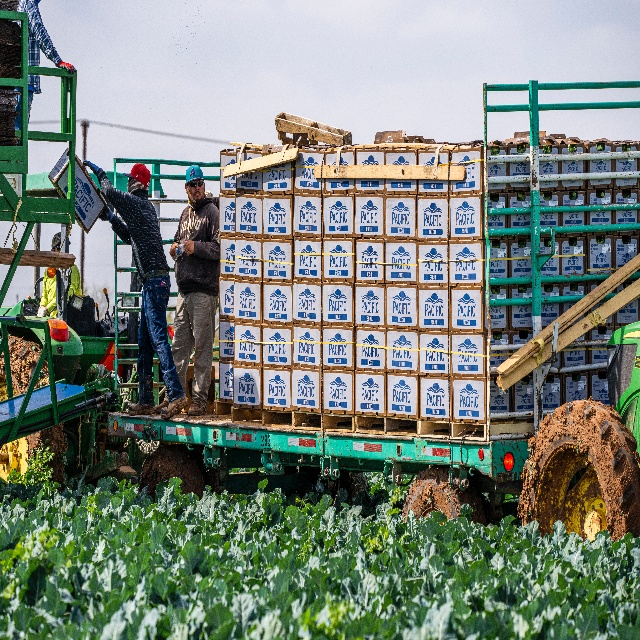Gafas: (189, 179, 204, 188), (53, 245, 60, 250)
Guantes: (59, 56, 75, 74), (82, 158, 99, 174), (98, 204, 112, 223), (36, 306, 47, 318)
Sin_guantes: (169, 243, 182, 259), (183, 240, 194, 256)
